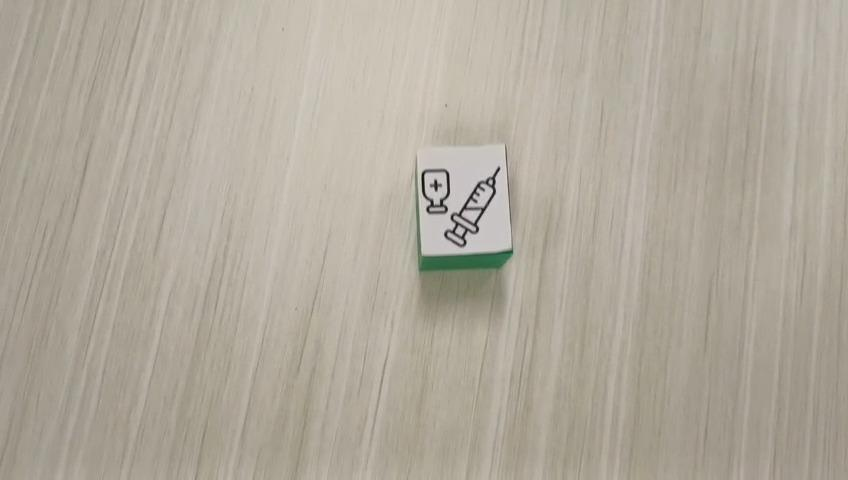antiseptic cream: (413, 141, 514, 271)
